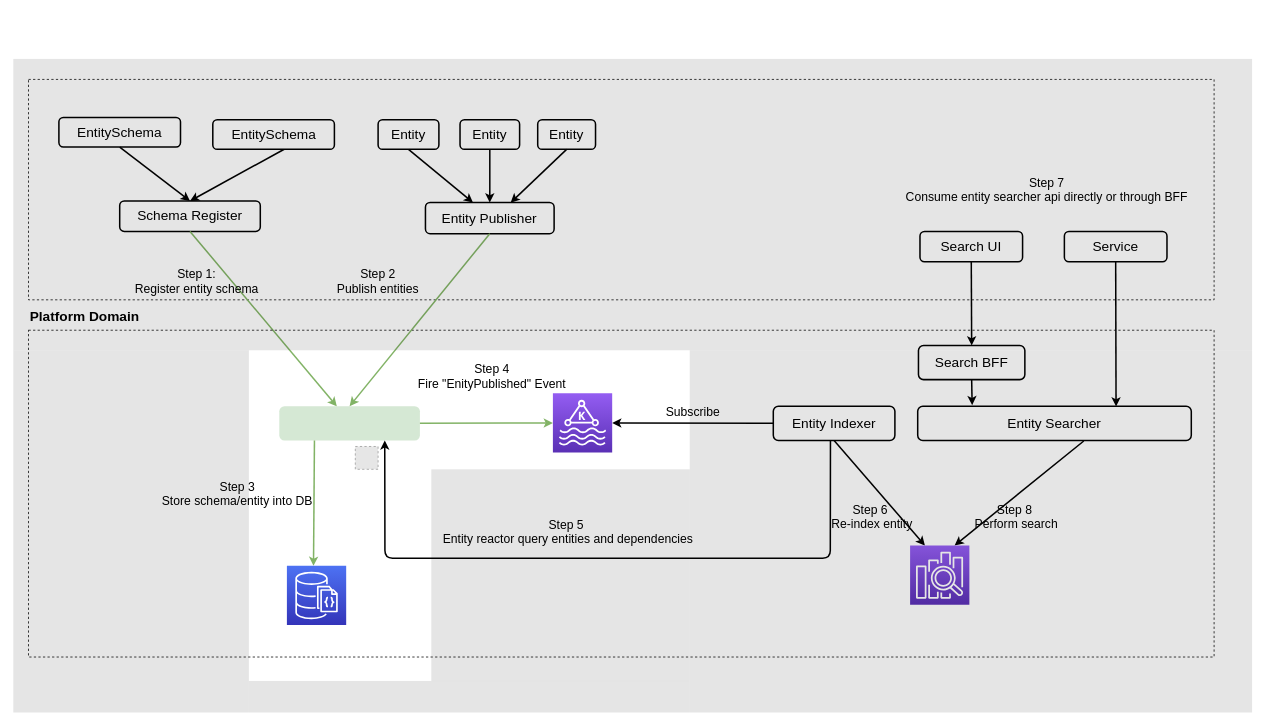
Image size: 1265x725. Some labels were removed from this diagram. Grey dashed boxes stand in for pictures. Each missing label, with the box of its shape:
Consumer Domain: (13, 59, 1252, 350)
EntityStore: (279, 406, 420, 440)
